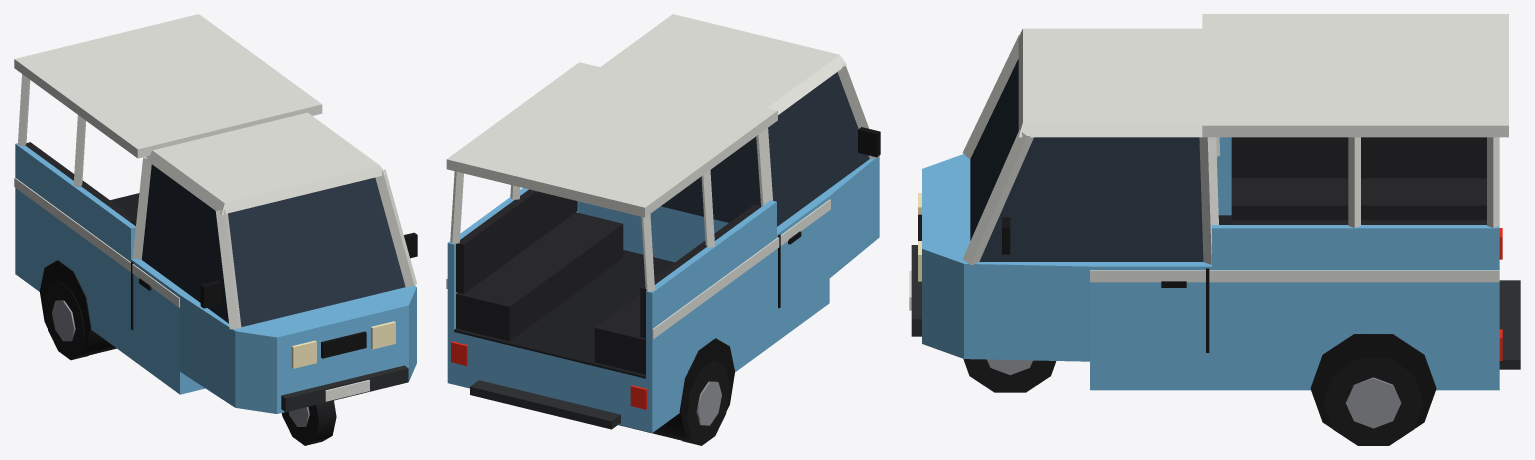
The model's file is bemo.glb.
3 views of the same model, side by side, from view 1: azimuth 30°, elevation 25°; view 2: azimuth 150°, elevation 25°; view 3: azimuth 270°, elevation 25° (orthographic). The views are drawn at different scales.
Parts seen in each view (by area): view 1: body, wheel_rr, wheel_f; view 2: body, wheel_rr; view 3: body, wheel_rl, wheel_f.
Part boxes in pixels (x1,y1,x2,y2): body: (14, 14, 417, 413); wheel_rr: (44, 281, 88, 360); wheel_f: (282, 400, 336, 445); body: (446, 14, 880, 444); wheel_rr: (682, 360, 730, 445); body: (909, 14, 1520, 428); wheel_rl: (1323, 358, 1423, 445); wheel_f: (963, 359, 1056, 392).
Size of the model in its own units: 1.46 by 1.67 by 2.91.
Materials: 1 (1 with a texture image).
